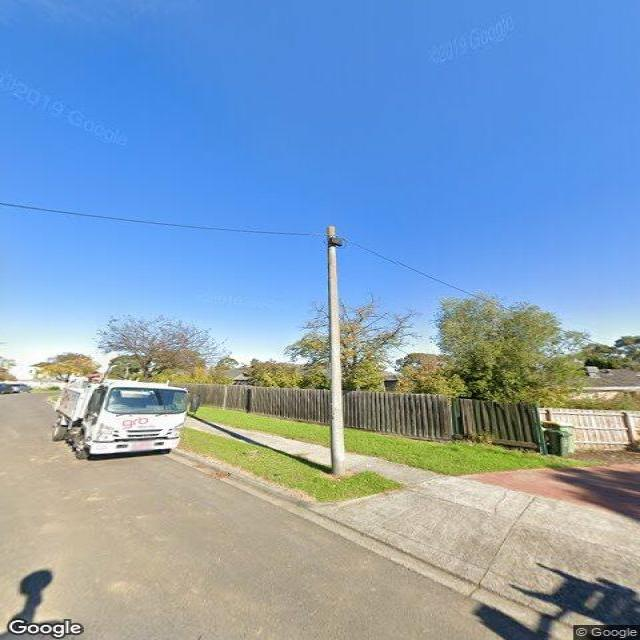concrete-pole: (324, 224, 349, 479)
